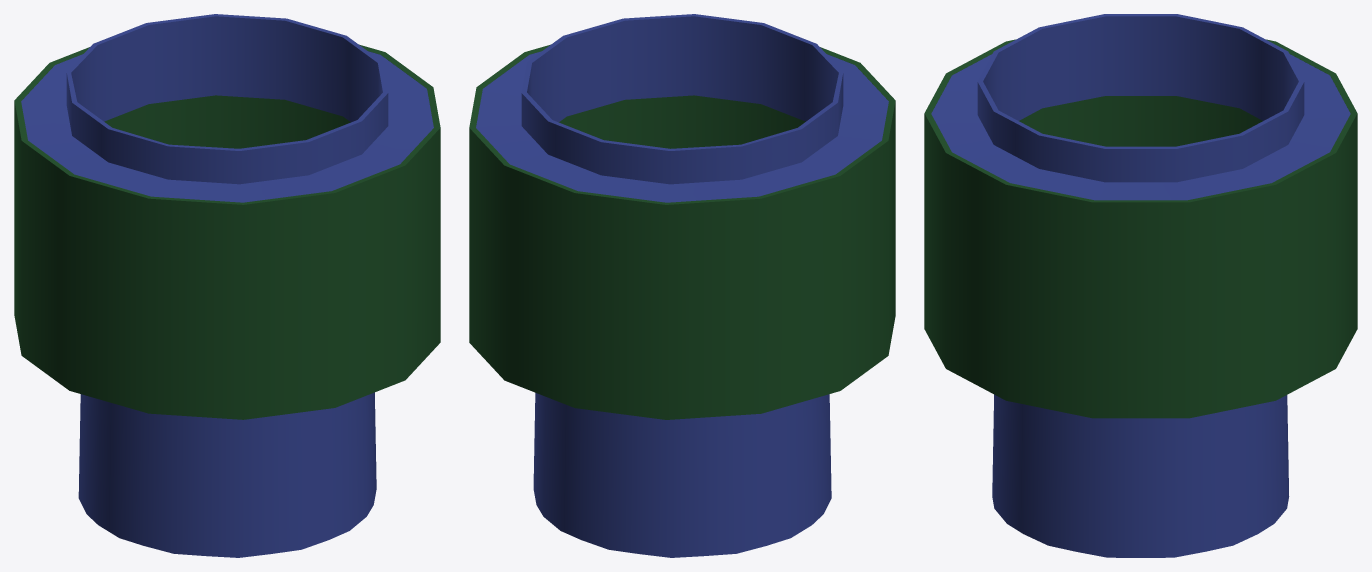
The model's file is MDL_Stage_Parts_01.fbx.
3 views of the same model, side by side, from view 1: azimuth 30°, elevation 25°; view 2: azimuth 150°, elevation 25°; view 3: azimuth 270°, elevation 25° (orthographic).
Visible parts, largest first — view 1: MDL_Stage_Outer_Wall_01, MDL_Stage_Upper_Ring_01, MDL_Stage_Lower_Ring_01; view 2: MDL_Stage_Outer_Wall_01, MDL_Stage_Upper_Ring_01, MDL_Stage_Lower_Ring_01; view 3: MDL_Stage_Outer_Wall_01, MDL_Stage_Upper_Ring_01, MDL_Stage_Lower_Ring_01.
Part boxes in pixels (x1,y1,x2,y2): MDL_Stage_Outer_Wall_01: [14, 44, 440, 419]; MDL_Stage_Upper_Ring_01: [21, 14, 433, 202]; MDL_Stage_Lower_Ring_01: [78, 392, 376, 557]; MDL_Stage_Outer_Wall_01: [469, 44, 895, 419]; MDL_Stage_Upper_Ring_01: [476, 14, 888, 202]; MDL_Stage_Lower_Ring_01: [533, 393, 831, 557]; MDL_Stage_Outer_Wall_01: [924, 39, 1357, 418]; MDL_Stage_Upper_Ring_01: [931, 14, 1350, 200]; MDL_Stage_Lower_Ring_01: [992, 394, 1289, 557].
Bounding box in the file's own units: 6880 × 7464 × 7055.
